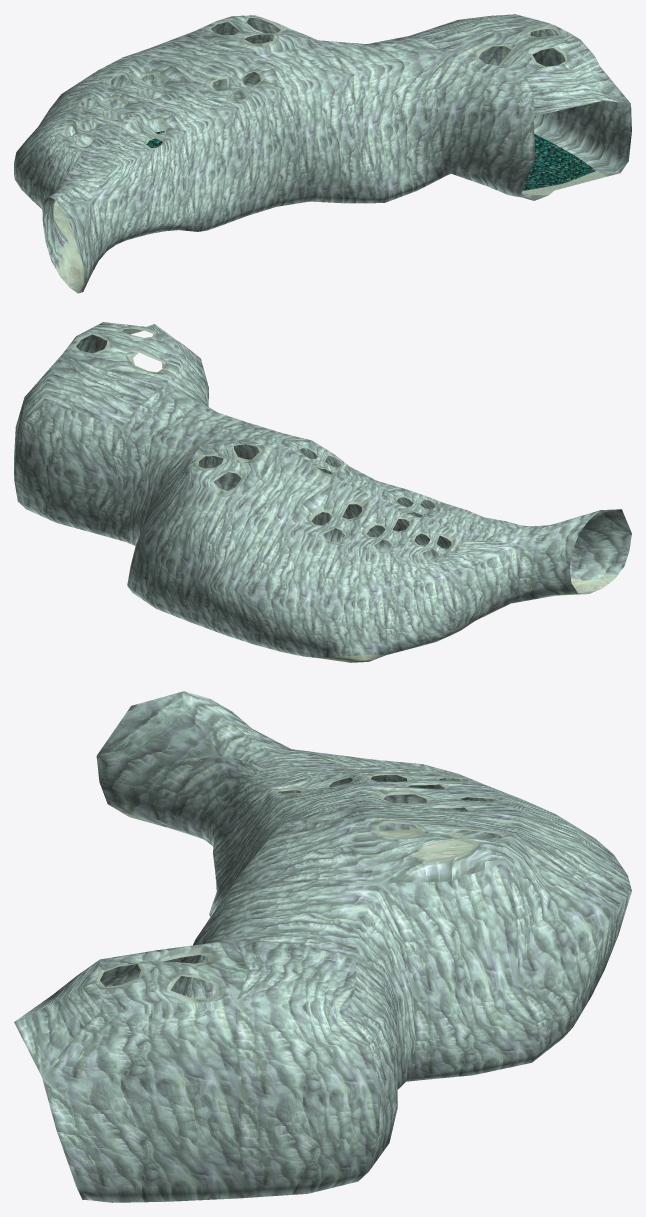
File: TROLLHOLE02_PS-MAINCAVE.fbx
3 renders of one model, top to bottom at view 1: azimuth 30°, elevation 25°; view 2: azimuth 150°, elevation 25°; view 3: azimuth 270°, elevation 25°, orthographic. The views are drawn at different scales.
Parts seen in each view (by area): view 1: TROLLHOLE02_PS-MAINCAVE; view 2: TROLLHOLE02_PS-MAINCAVE; view 3: TROLLHOLE02_PS-MAINCAVE.
Part boxes in pixels (x1,y1,x2,y2): TROLLHOLE02_PS-MAINCAVE: (14,14,631,293); TROLLHOLE02_PS-MAINCAVE: (14,322,631,662); TROLLHOLE02_PS-MAINCAVE: (14,691,631,1202).
Bounding box in the file's own units: 397743 × 95108 × 261121.
Materials: 10 (10 with a texture image).
